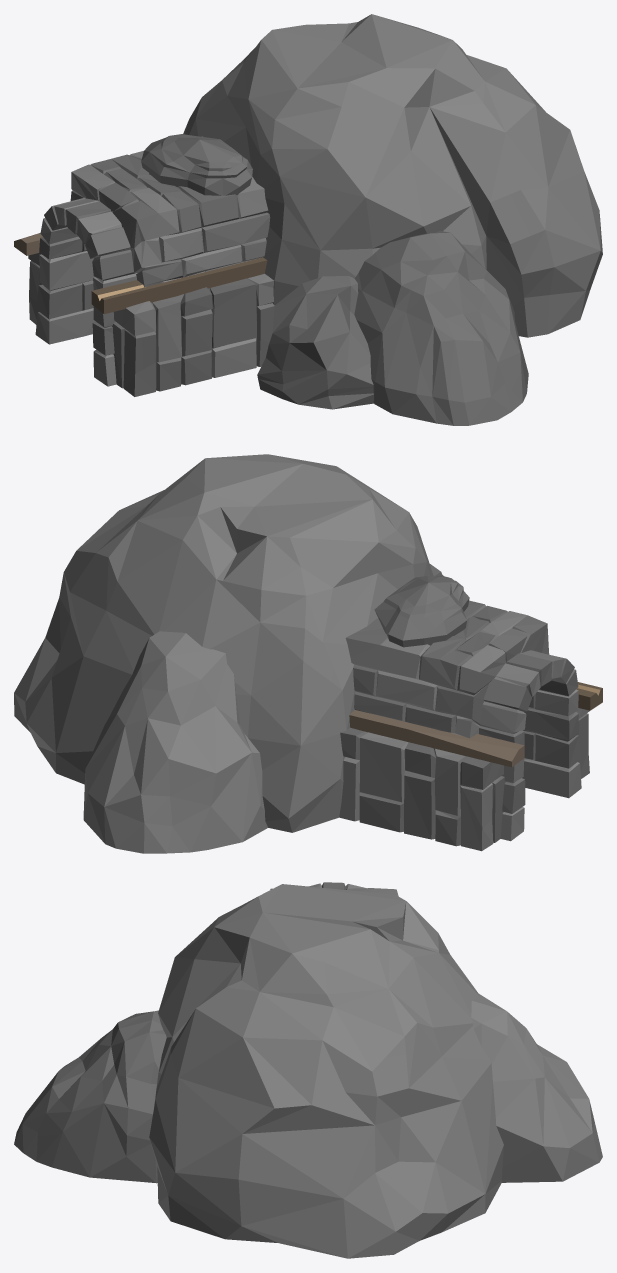
The model's file is _mine_4.fbx.
3 views of the same model, one above another, from view 1: azimuth 30°, elevation 25°; view 2: azimuth 150°, elevation 25°; view 3: azimuth 270°, elevation 25° (orthographic). The views are drawn at different scales.
Visible parts, largest first — view 1: _mine_4; view 2: _mine_4; view 3: _mine_4.
Part boxes in pixels (x1=…): _mine_4: x1=14, y1=14, x2=602, y2=425; _mine_4: x1=14, y1=454, x2=602, y2=853; _mine_4: x1=14, y1=882, x2=602, y2=1258.
Size of the model in its own units: 1537 by 727 by 1593.
